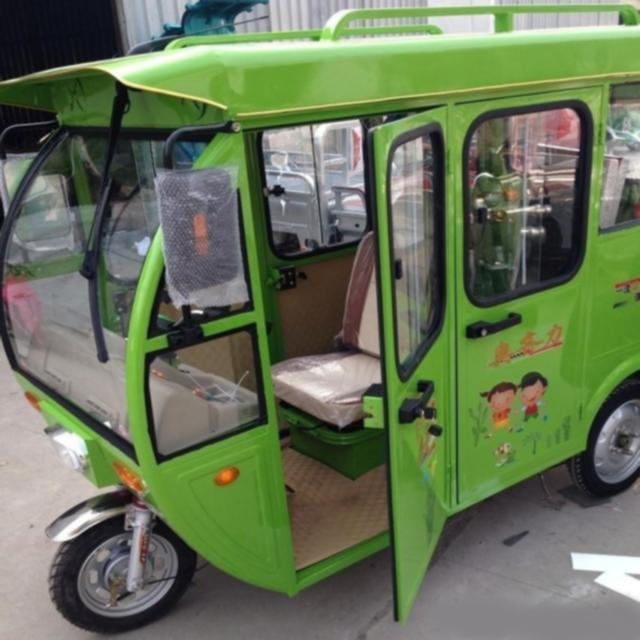tricycle: (4, 2, 638, 629)
